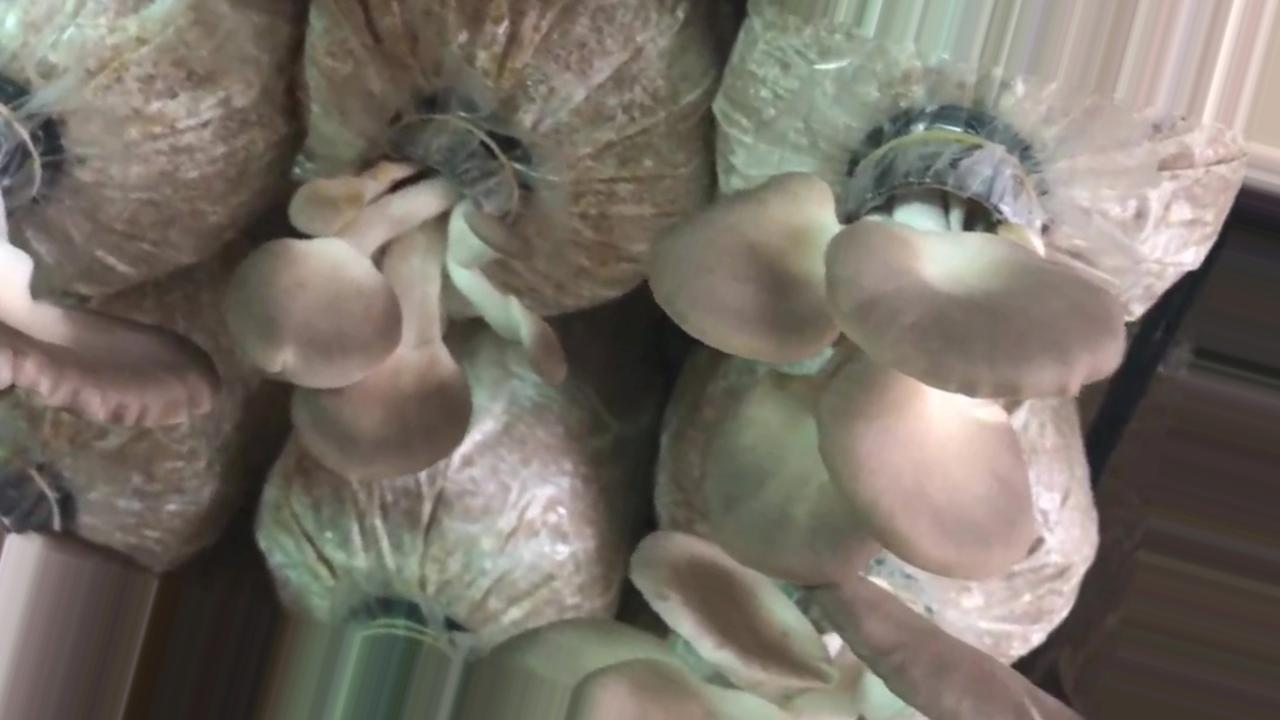nam: (646, 114, 1131, 588), (224, 92, 575, 480), (466, 527, 1075, 720), (1, 238, 224, 430)
